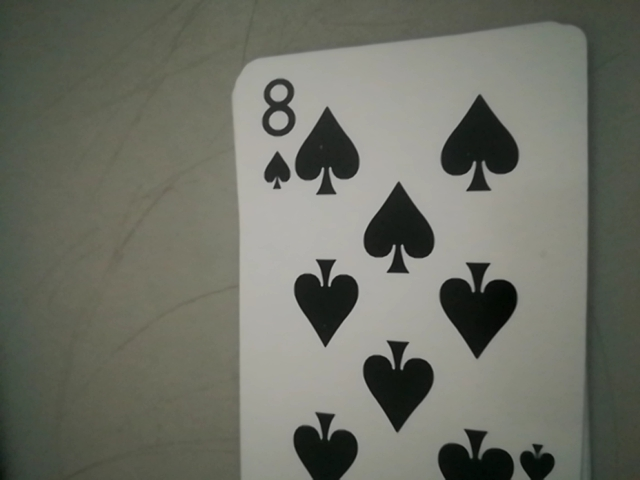ht 8: (245, 61, 312, 202)
